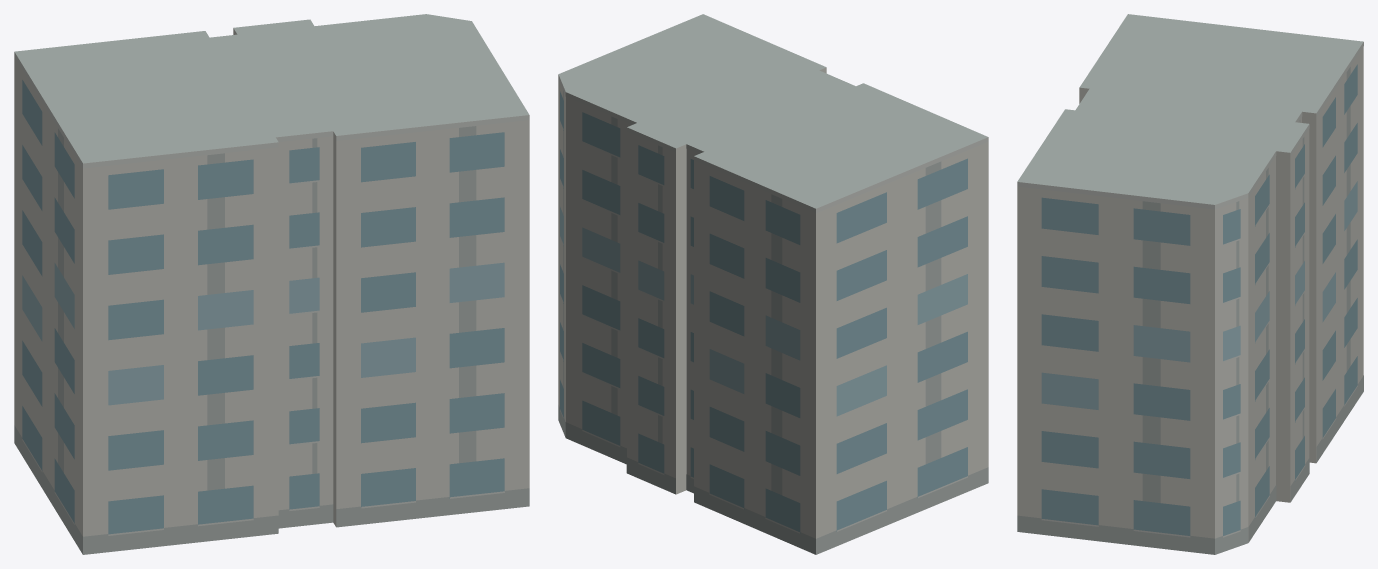
File: survey-upis-33036066.glb
The picture shows the model from 3 angles, left to right: view 1: azimuth 30°, elevation 25°; view 2: azimuth 150°, elevation 25°; view 3: azimuth 270°, elevation 25°; orthographic projection. The views are drawn at different scales.
Parts seen in each view (by area): view 1: survey-upis-33036066.tmp; view 2: survey-upis-33036066.tmp; view 3: survey-upis-33036066.tmp.
Boxes of the visible parts, x1,y1,x2,y2 form: survey-upis-33036066.tmp: [14, 14, 529, 554]; survey-upis-33036066.tmp: [558, 14, 988, 554]; survey-upis-33036066.tmp: [1017, 14, 1363, 554].
Size of the model in its own units: 21.42 by 18.3 by 16.44.
